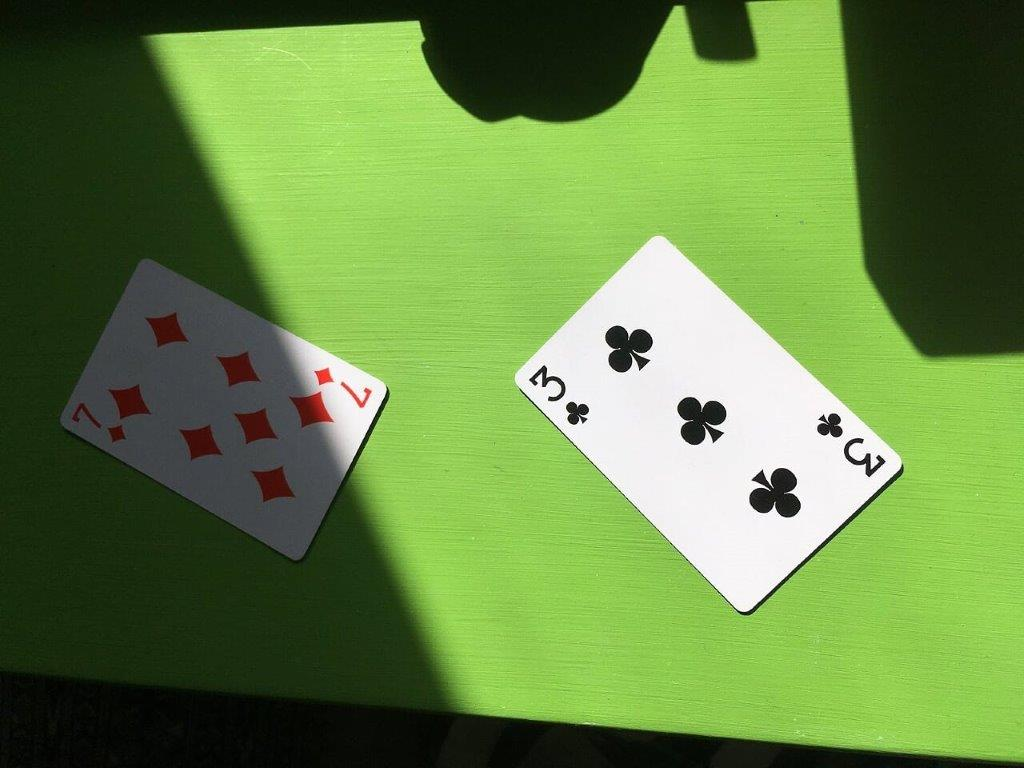3C: (513, 233, 903, 615)
7D: (58, 256, 389, 564)
